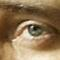eye: (28, 25, 42, 36)
